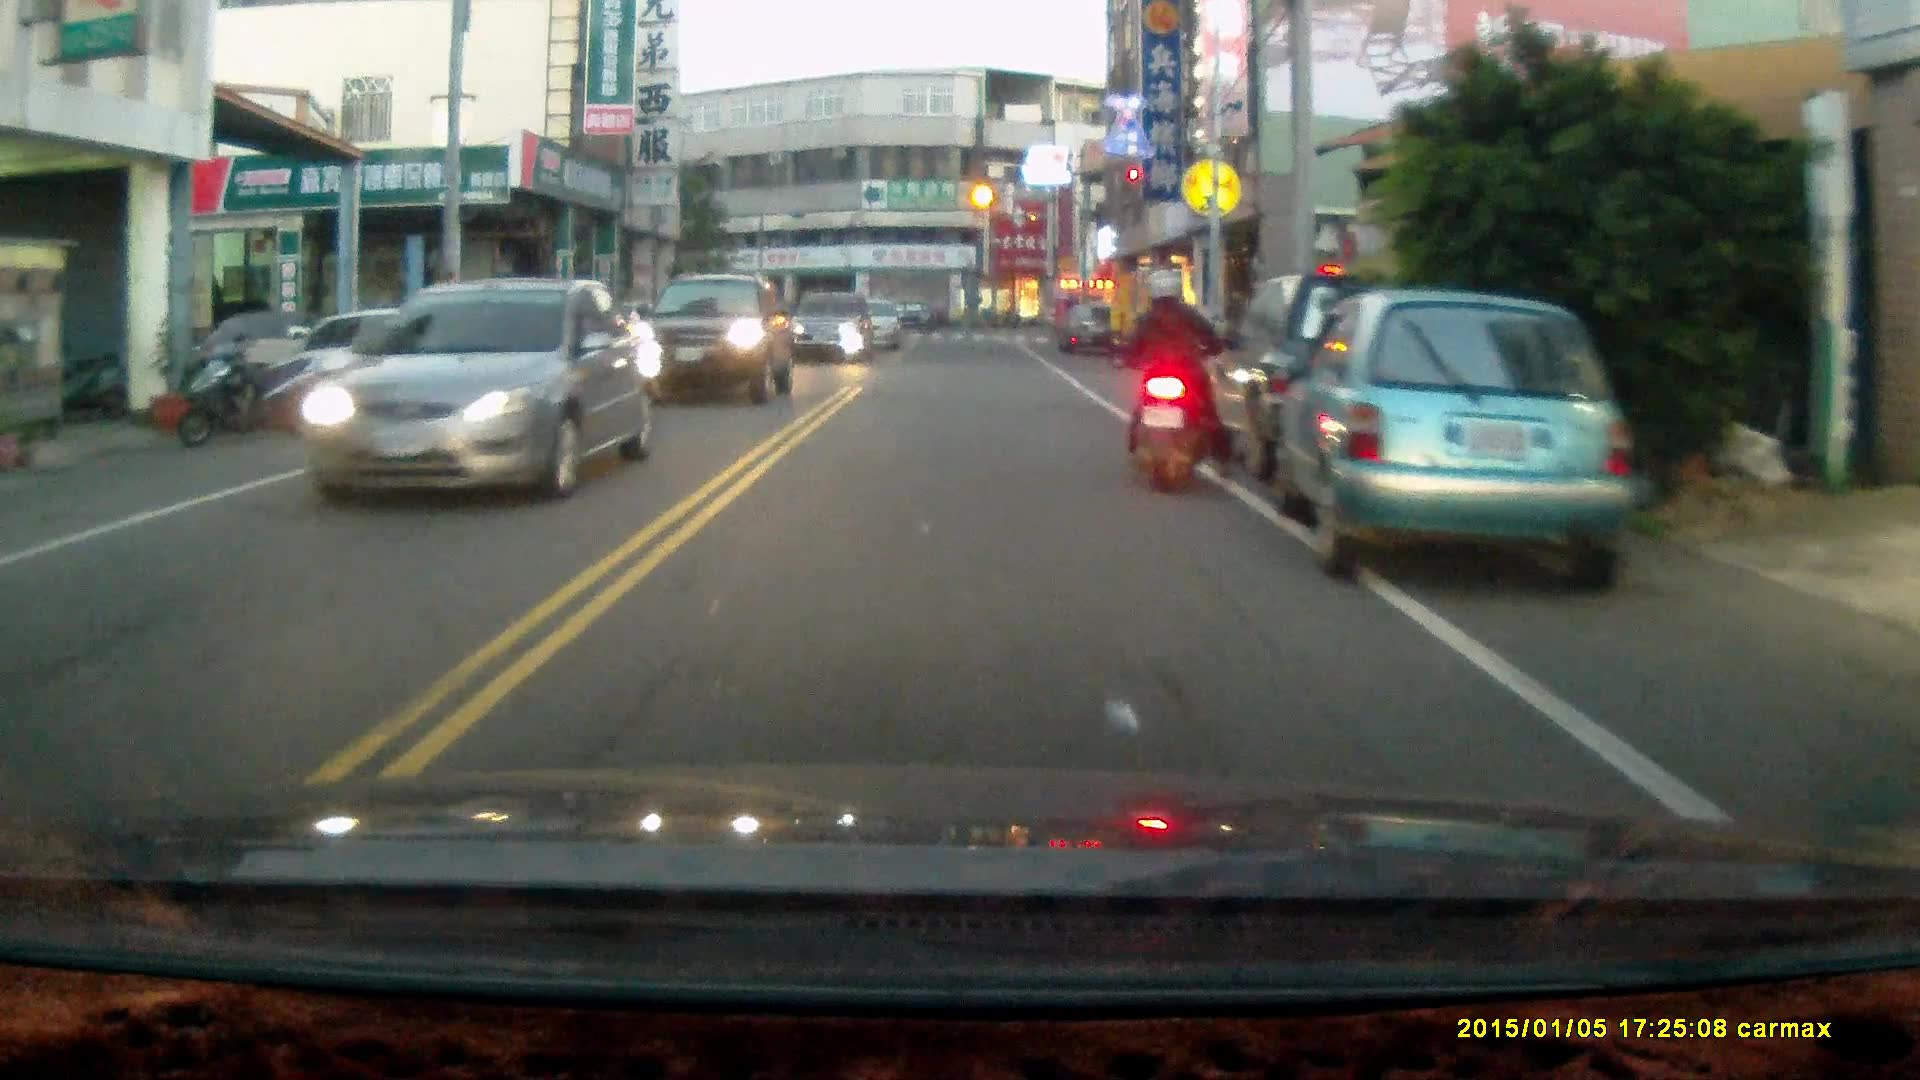rider: (1124, 266, 1230, 493)
vehicle: (1272, 290, 1631, 596), (302, 279, 659, 508), (1179, 269, 1498, 483), (268, 309, 478, 421), (635, 272, 794, 398), (787, 295, 877, 363)
